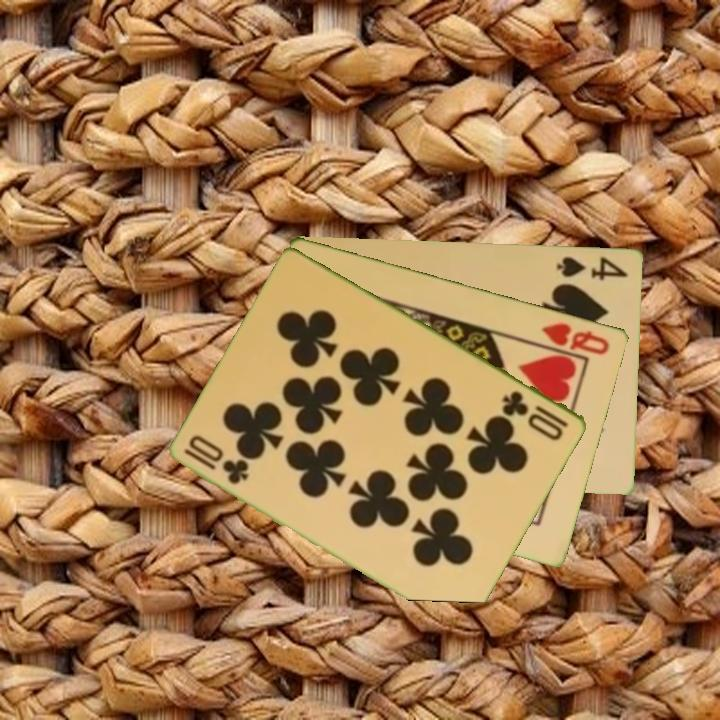10c: (499, 386, 572, 444), (181, 444, 253, 487)
4s: (553, 253, 631, 283)
Qh: (539, 319, 613, 358)
